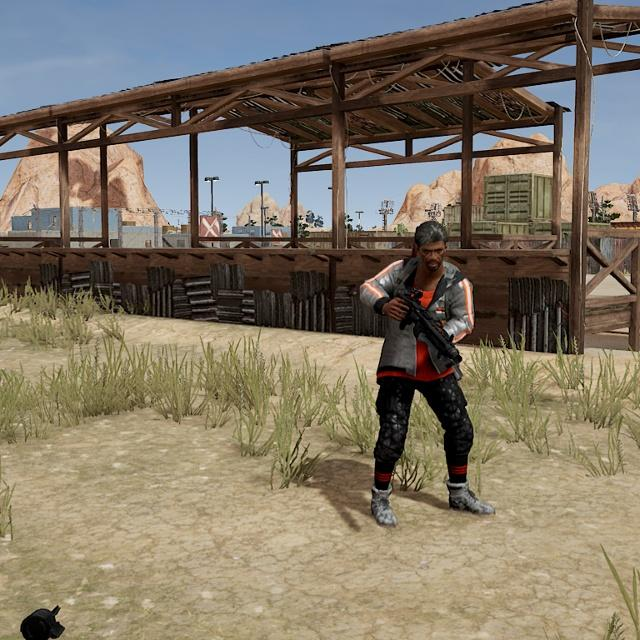head: (413, 220, 450, 272)
people: (356, 218, 496, 524)
